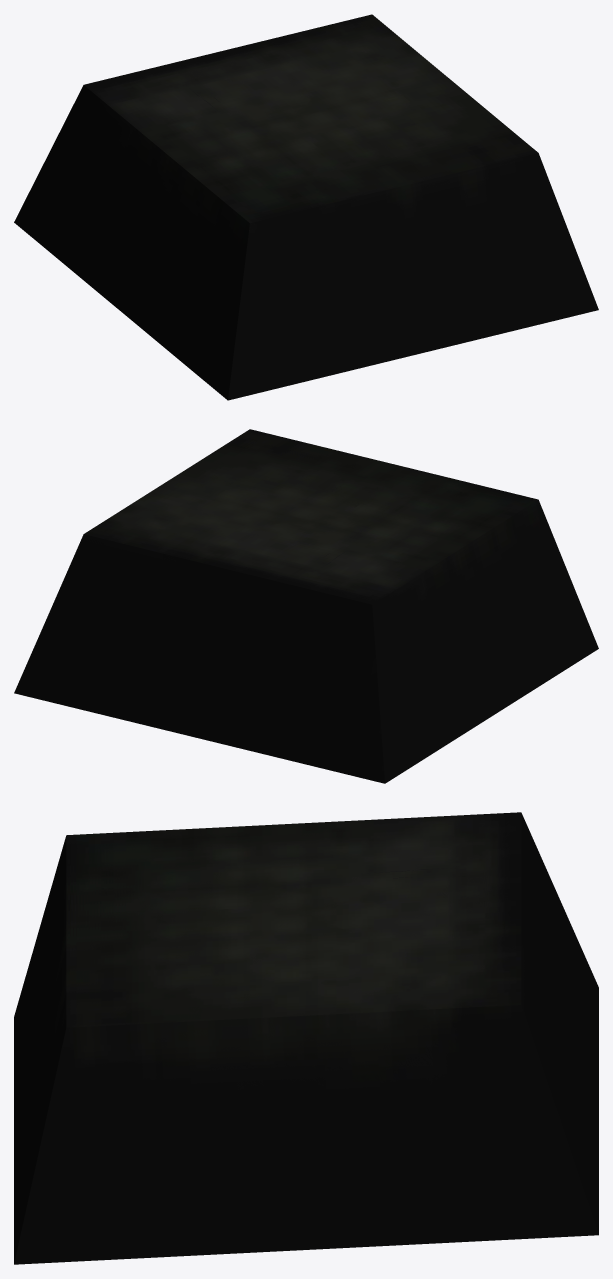
The model's file is link_6__key-12.glb.
The picture shows the model from 3 angles, top to bottom: view 1: azimuth 30°, elevation 25°; view 2: azimuth 150°, elevation 25°; view 3: azimuth 270°, elevation 25°; orthographic projection. The views are drawn at different scales.
Parts seen in each view (by area): view 1: geometry_0; view 2: geometry_0; view 3: geometry_0.
Part boxes in pixels (<box>): geometry_0: <box>14,14,598,400</box>; geometry_0: <box>14,429,598,783</box>; geometry_0: <box>14,812,598,1264</box>.
Bounding box in the file's own units: 0.0719 × 0.0315 × 0.0718.
Materials: 1 (1 with a texture image).
